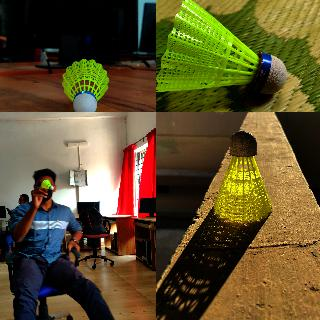shuttlecock: (156, 0, 288, 98), (213, 130, 271, 222), (61, 58, 110, 111), (40, 178, 54, 190)
